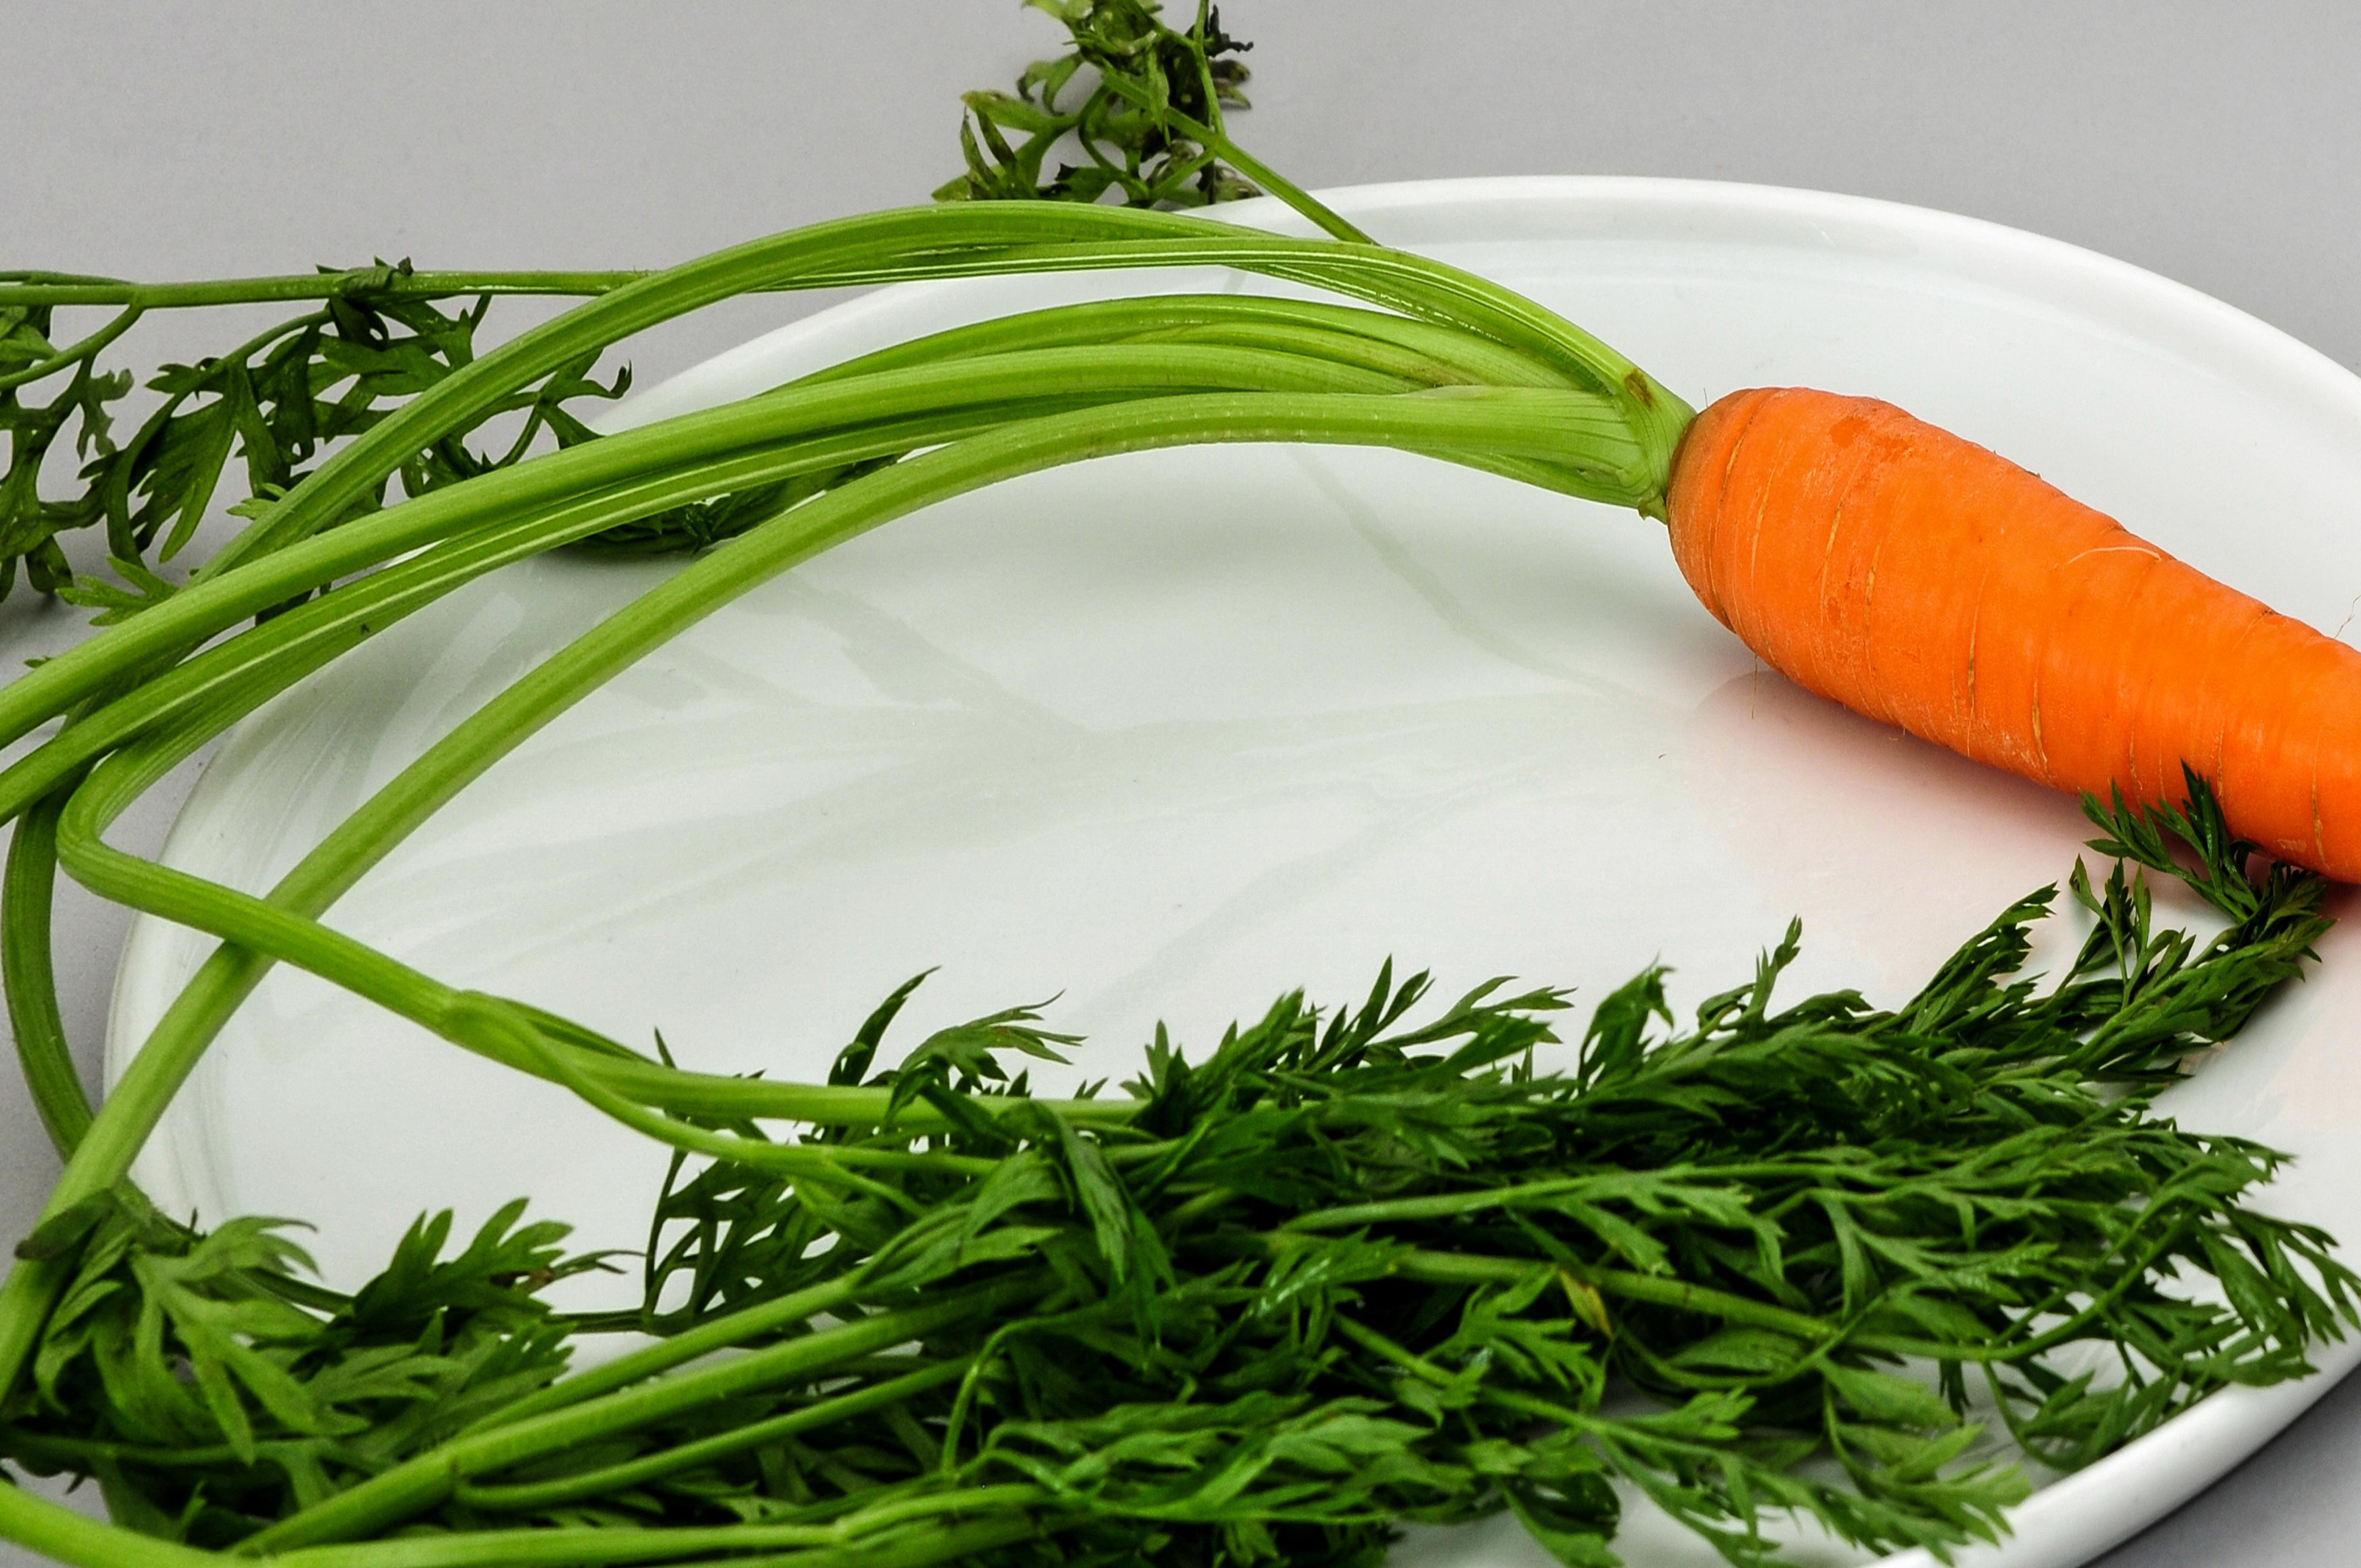carrot: (1069, 145, 2361, 1076)
